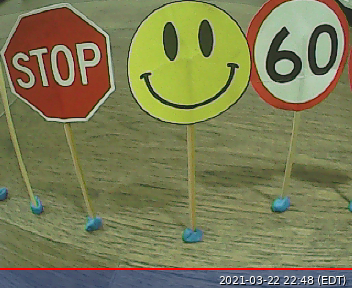Person: (126, 1, 251, 123)
Speed Limit 60: (251, 1, 348, 114)
Stop: (1, 2, 118, 123)
